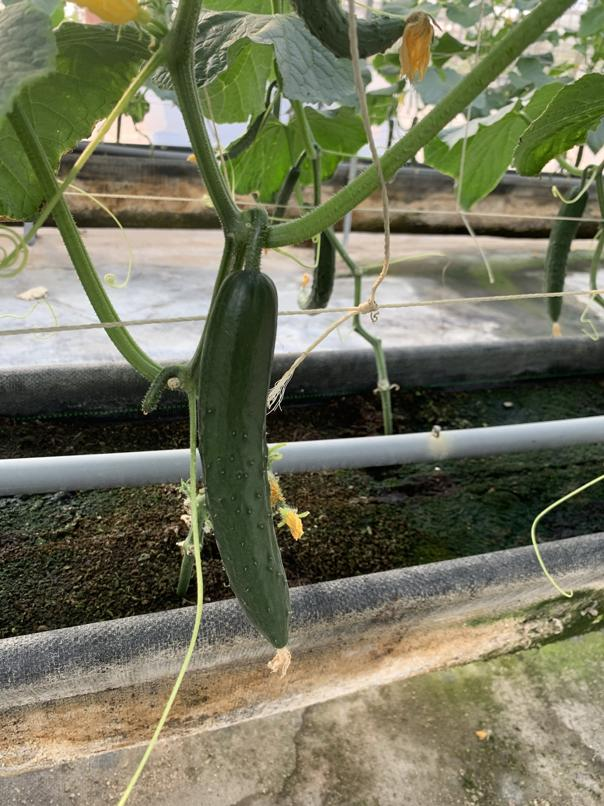bench: (2, 1, 601, 675)
